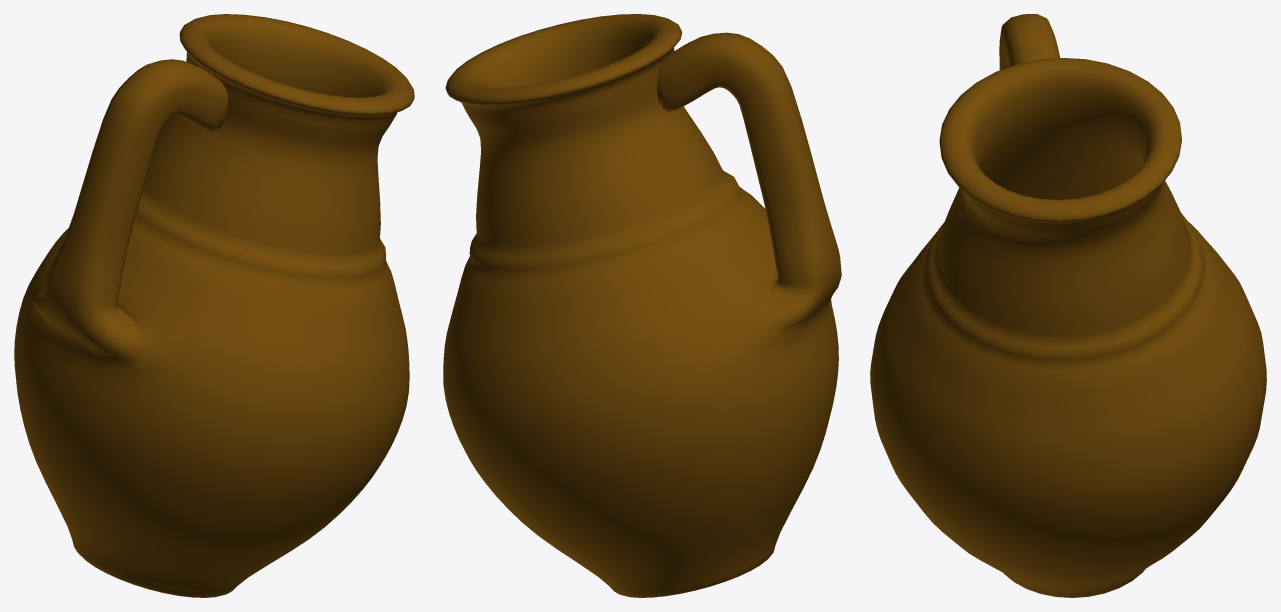
Rendered from jarra.glb.
3 renders of one model, left to right at view 1: azimuth 30°, elevation 25°; view 2: azimuth 150°, elevation 25°; view 3: azimuth 270°, elevation 25°, orthographic.
Parts seen in each view (by area): view 1: Object_2; view 2: Object_2; view 3: Object_2.
Part boxes in pixels (x1,y1,x2,y2): Object_2: (14,14,414,597); Object_2: (443,14,841,597); Object_2: (870,14,1266,597).
Bounding box in the file's own units: 1.68 × 2.44 × 1.62.
